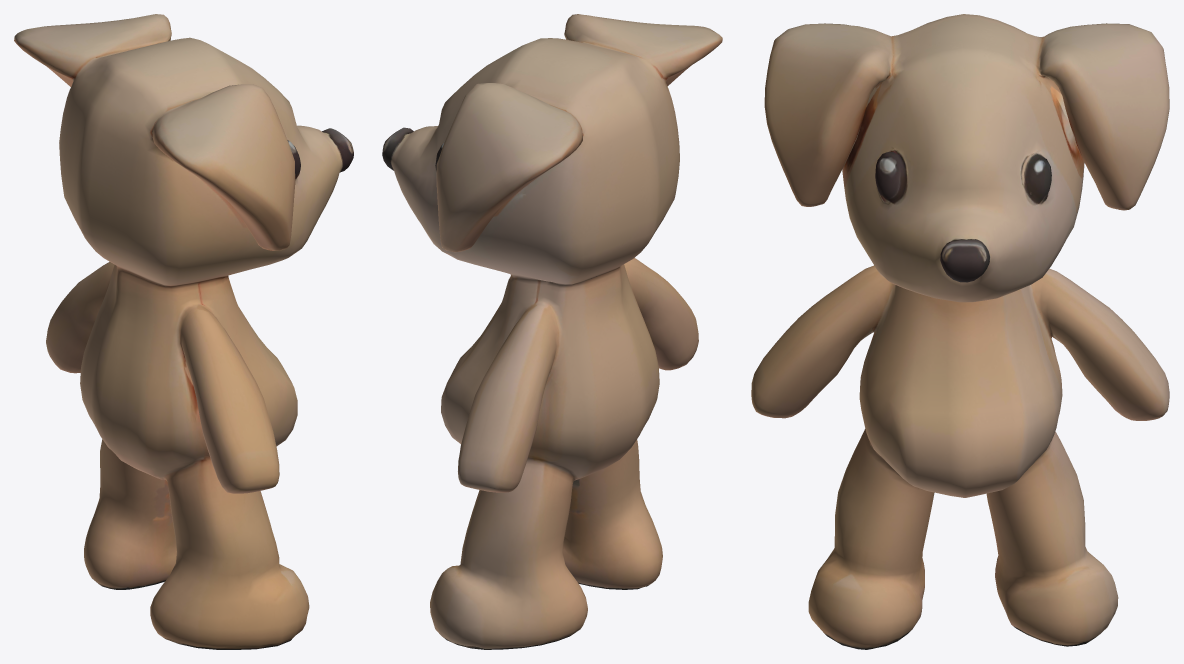
The model's file is tripo_convert_bc9c1284-0cd0-4497-9997-9ef7868773a1.fbx.
3 views of the same model, side by side, from view 1: azimuth 30°, elevation 25°; view 2: azimuth 150°, elevation 25°; view 3: azimuth 270°, elevation 25° (orthographic). The views are drawn at different scales.
Parts seen in each view (by area): view 1: tripo_node_bc9c1284; view 2: tripo_node_bc9c1284; view 3: tripo_node_bc9c1284.
Boxes of the visible parts, x1,y1,x2,y2 form: tripo_node_bc9c1284: (14,14,353,649); tripo_node_bc9c1284: (382,14,722,649); tripo_node_bc9c1284: (751,14,1169,649).
Bounding box in the file's own units: 50.24 × 99.96 × 65.4.
Materials: 1 (1 with a texture image).
